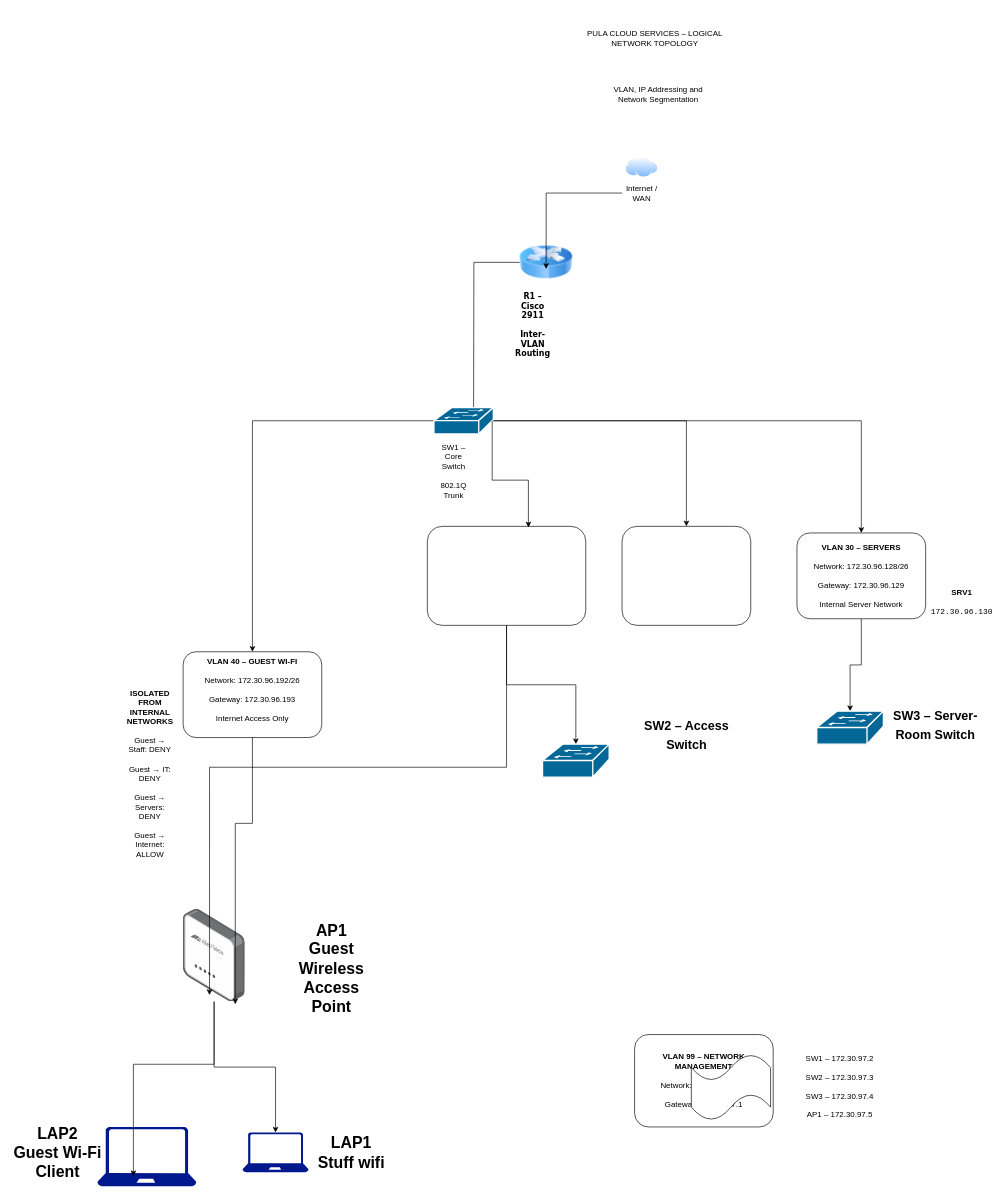
This 1004x1203 diagram has some shape labels left out. The centre of each missing label's shape, as x and y in pixels:
"VLAN 10 – STAFF Network: 172.30.96.0/26 Gateway: 172.30.96.1 Staff Workstations" belongs at (x=506, y=575).
"VLAN 20 – IT Network: 172.30.96.64/26 Gateway: 172.30.96.65 IT Workstations" belongs at (x=686, y=575).
